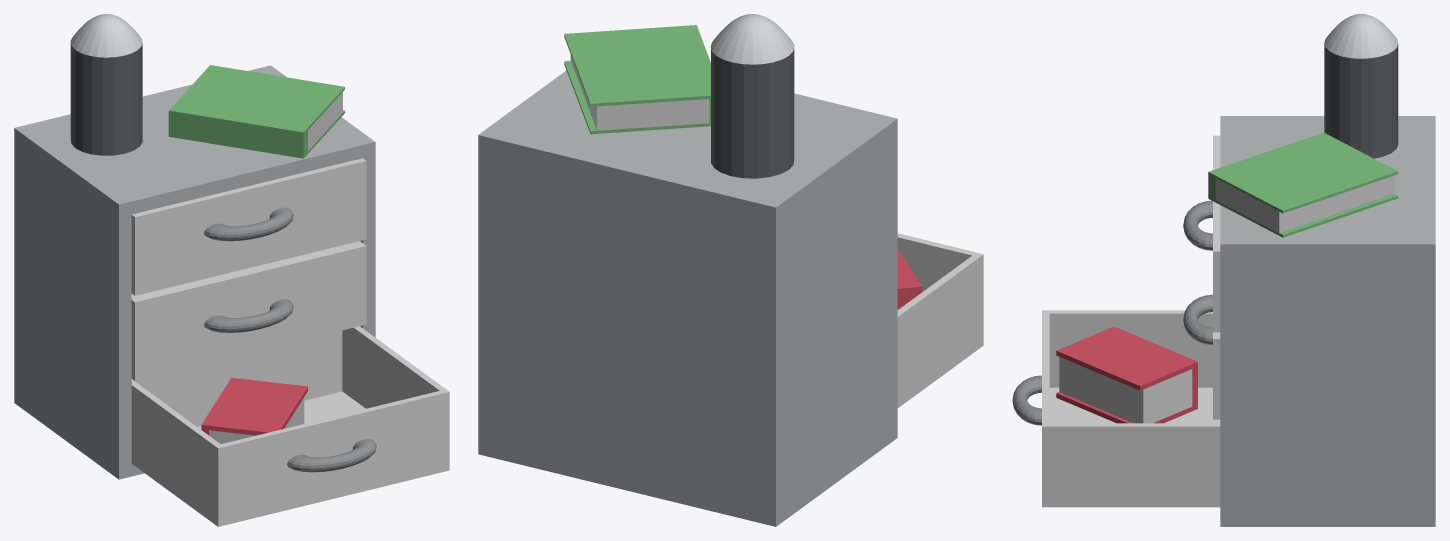
File: Bedside Drawers(TinkerCad).glb
3 views of the same model, side by side, from view 1: azimuth 30°, elevation 25°; view 2: azimuth 150°, elevation 25°; view 3: azimuth 270°, elevation 25° (orthographic). The views are drawn at different scales.
Parts seen in each view (by area): view 1: Mesh_Mesh_head_geo.001_lambert2SG.001; view 2: Mesh_Mesh_head_geo.001_lambert2SG.001; view 3: Mesh_Mesh_head_geo.001_lambert2SG.001.
Boxes of the visible parts, x1,y1,x2,y2 form: Mesh_Mesh_head_geo.001_lambert2SG.001: (14, 14, 449, 526); Mesh_Mesh_head_geo.001_lambert2SG.001: (478, 14, 983, 526); Mesh_Mesh_head_geo.001_lambert2SG.001: (1012, 14, 1435, 526).
Bounding box in the file's own units: 41.02 × 61 × 57.
